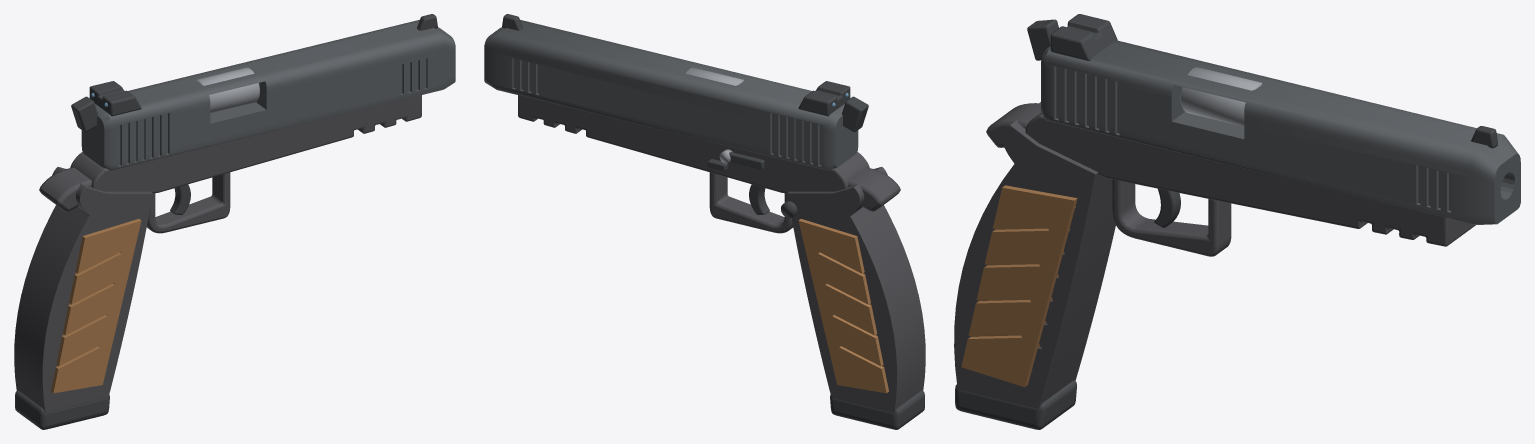
3 renders of one model, left to right at view 1: azimuth 30°, elevation 25°; view 2: azimuth 150°, elevation 25°; view 3: azimuth 330°, elevation 25°, orthographic. The views are drawn at different scales.
Visible parts, largest first — view 1: slide, grip_part, frame, grip_panel-1, guard, mag, barrel_hood, beavertail, rear_sight, hammer, trigger; view 2: slide, grip_part, frame, grip_panel1, guard, mag, beavertail, rear_sight, hammer, barrel_hood, trigger; view 3: slide, grip_part, frame, grip_panel-1, guard, mag, barrel_hood, rear_sight, beavertail, hammer, trigger.
Part boxes in pixels (x1=…): slide: x1=81, y1=19, x2=455, y2=170; grip_part: x1=14, y1=167, x2=152, y2=412; frame: x1=70, y1=95, x2=421, y2=193; grip_panel-1: x1=51, y1=219, x2=141, y2=393; guard: x1=147, y1=172, x2=230, y2=233; mag: x1=15, y1=390, x2=109, y2=429; barrel_hood: x1=196, y1=67, x2=259, y2=113; beavertail: x1=39, y1=167, x2=91, y2=211; rear_sight: x1=89, y1=81, x2=141, y2=116; hammer: x1=71, y1=96, x2=97, y2=132; trigger: x1=170, y1=184, x2=190, y2=214; slide: x1=484, y1=20, x2=858, y2=170; grip_part: x1=787, y1=167, x2=925, y2=412; frame: x1=518, y1=95, x2=869, y2=193; grip_panel1: x1=798, y1=219, x2=888, y2=393; guard: x1=709, y1=172, x2=792, y2=233; mag: x1=830, y1=390, x2=924, y2=429; beavertail: x1=848, y1=167, x2=900, y2=211; rear_sight: x1=798, y1=81, x2=850, y2=116; hammer: x1=842, y1=96, x2=868, y2=132; barrel_hood: x1=685, y1=67, x2=743, y2=85; trigger: x1=749, y1=184, x2=769, y2=214; slide: x1=1041, y1=40, x2=1520, y2=224; grip_part: x1=954, y1=102, x2=1115, y2=408; frame: x1=1025, y1=112, x2=1475, y2=246; grip_panel-1: x1=961, y1=185, x2=1077, y2=387; guard: x1=1112, y1=179, x2=1231, y2=256; mag: x1=955, y1=380, x2=1076, y2=429; barrel_hood: x1=1180, y1=67, x2=1262, y2=126; rear_sight: x1=1050, y1=14, x2=1117, y2=60; beavertail: x1=986, y1=103, x2=1041, y2=147; hammer: x1=1027, y1=19, x2=1058, y2=60; trigger: x1=1154, y1=188, x2=1180, y2=227.
Bounding box in the file's own units: 0.2372 × 0.168 × 0.033.
